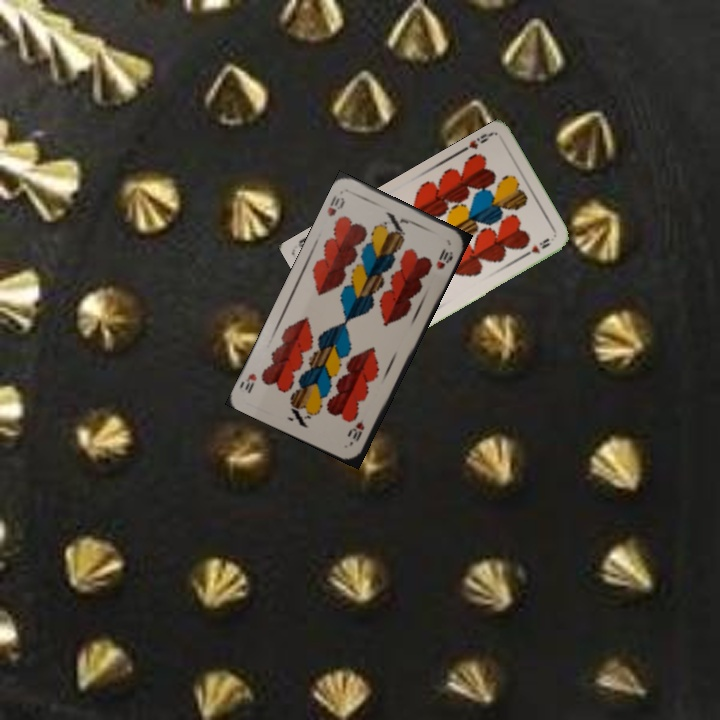H10: (323, 192, 347, 219), (348, 415, 367, 444)
H9: (457, 129, 495, 155)
